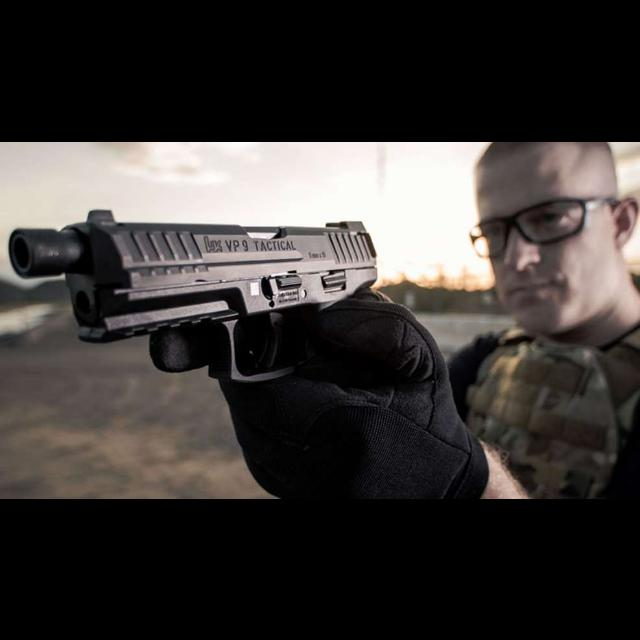handgun: (6, 207, 382, 391)
